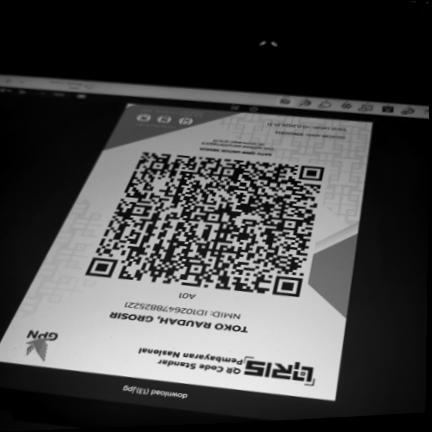Cara Pakai QRIS: (117, 104, 208, 133)
Cek Aplikasi Penyelenggara: (196, 136, 278, 152)
Dicetak Oleh: (267, 128, 347, 142)
Logo GPN: (9, 324, 65, 364)
Logo dan deskripsi QRIS: (121, 340, 328, 391)
Nama Merchant: (99, 308, 253, 338)
National Merchant ID: (113, 298, 253, 322)
QR Code: (76, 149, 329, 300)
Slogan: (195, 146, 275, 158)
Terminal ID: (171, 289, 201, 302)
Versi Cetak: (261, 119, 348, 134)
